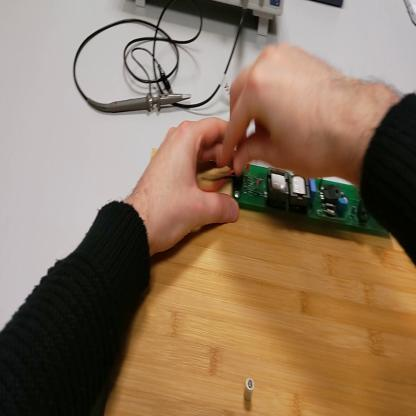hand: (222, 41, 348, 187), (138, 117, 240, 251)
high voltage board: (203, 157, 389, 236)
oscilloscope: (134, 3, 283, 36)
oscilloscope probe tip: (116, 91, 191, 113)
working area: (107, 147, 416, 415)
